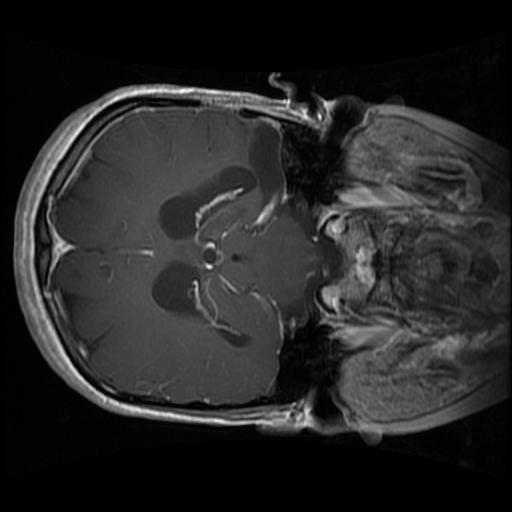glioma: (245, 120, 285, 229)
